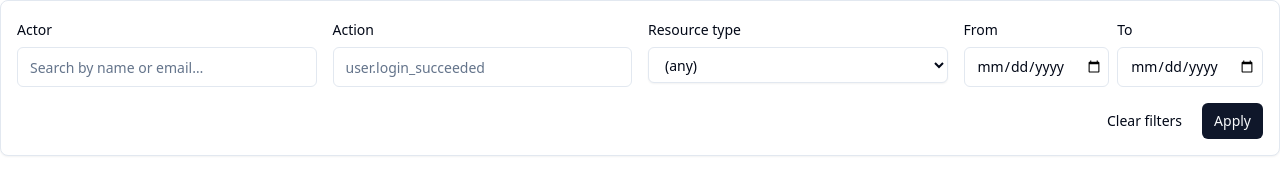
Test: AuditFilters › action combobox › shows the freeform-friendly empty state when the query errors out
Click the dropdown named "Action filter": (482, 67) [332,47,632,87]
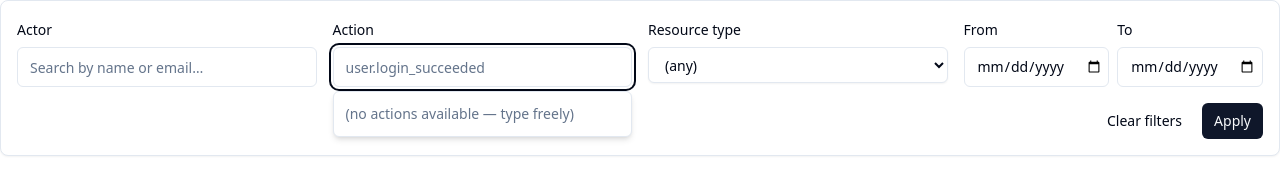
Now the list item "(no actions available — type freely)" is shown, box [346,104,574,123]
